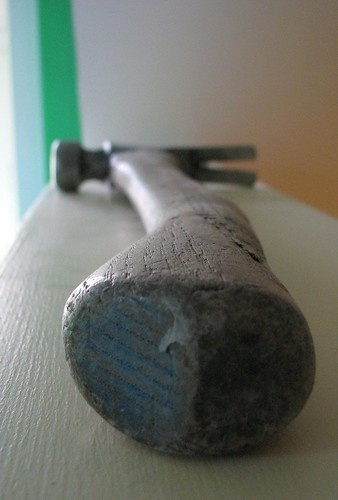hammer: (49, 128, 319, 455)
